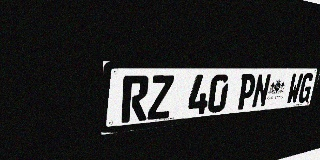0: (207, 74, 230, 113)
4: (187, 75, 211, 116)
G: (297, 73, 315, 103)
N: (251, 74, 272, 108)
P: (236, 74, 257, 110)
R: (121, 75, 150, 123)
W: (285, 73, 304, 105)
Z: (147, 75, 174, 120)
